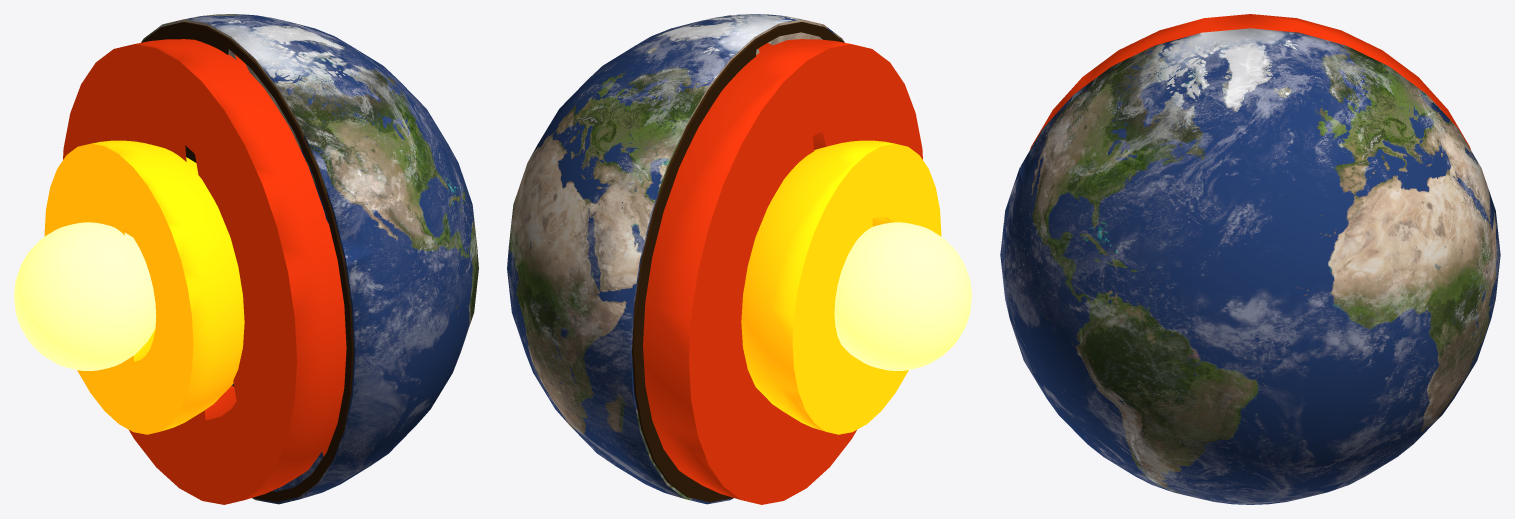
The model's file is Earth.fbx.
3 renders of one model, left to right at view 1: azimuth 30°, elevation 25°; view 2: azimuth 150°, elevation 25°; view 3: azimuth 270°, elevation 25°, orthographic.
Parts seen in each view (by area): view 1: Mantle, Surface, Outer Core, Inner Core, Crust; view 2: Mantle, Surface, Outer Core, Inner Core, Crust; view 3: Surface, Mantle.
Boxes of the visible parts, x1=… form: Mantle: x1=63, y1=39, x2=346, y2=504; Surface: x1=141, y1=14, x2=478, y2=504; Outer Core: x1=44, y1=140, x2=244, y2=434; Inner Core: x1=14, y1=222, x2=156, y2=370; Crust: x1=141, y1=22, x2=353, y2=502; Mantle: x1=643, y1=39, x2=922, y2=504; Surface: x1=507, y1=14, x2=844, y2=504; Outer Core: x1=741, y1=140, x2=941, y2=434; Inner Core: x1=834, y1=222, x2=971, y2=370; Crust: x1=632, y1=22, x2=844, y2=502; Surface: x1=1000, y1=28, x2=1500, y2=504; Mantle: x1=1030, y1=14, x2=1470, y2=149.
Bounding box in the file's own units: 197 × 200 × 200.
